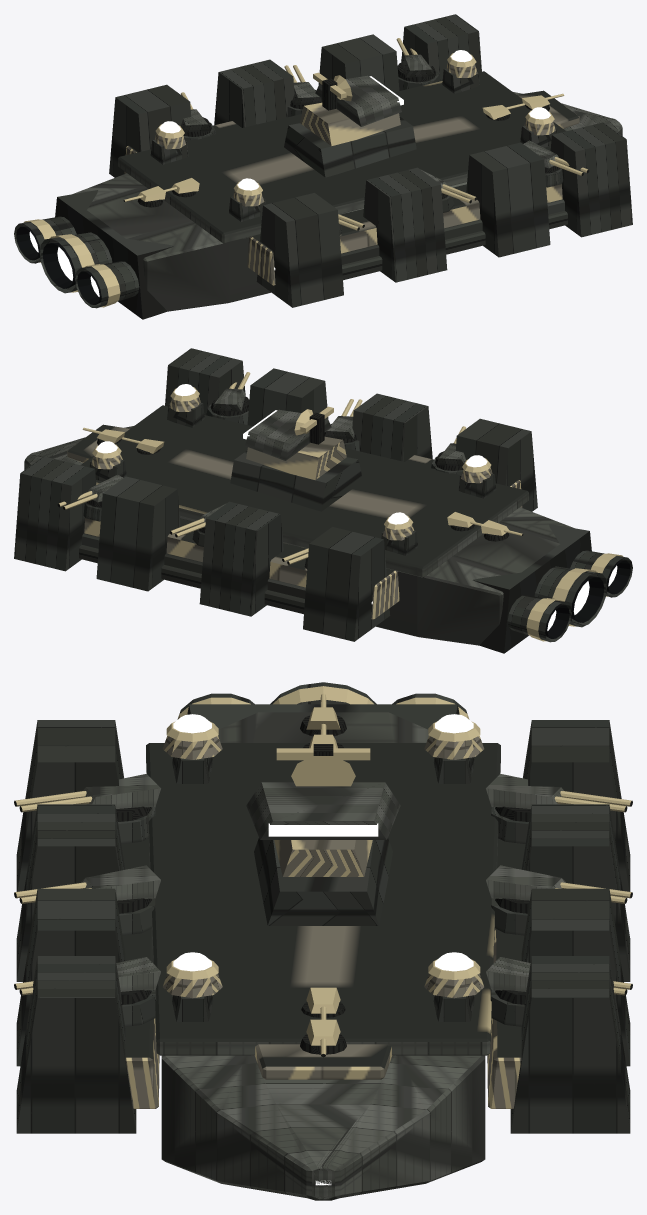
Rendered from cruiser.glb.
3 renders of one model, top to bottom at view 1: azimuth 30°, elevation 25°; view 2: azimuth 150°, elevation 25°; view 3: azimuth 270°, elevation 25°, orthographic. The views are drawn at different scales.
Parts seen in each view (by area): view 1: hull_body, engine_block, sensor_tower, weapon_turrets, shield_pylons; view 2: hull_body, engine_block, sensor_tower, weapon_turrets, shield_pylons; view 3: hull_body, weapon_turrets, sensor_tower, shield_pylons, engine_block.
Boxes of the visible parts, box(x1,y1,x2,y2) form: hull_body: box(72, 14, 632, 311); engine_block: box(14, 190, 174, 319); sensor_tower: box(284, 72, 416, 177); weapon_turrets: box(123, 38, 589, 235); shield_pylons: box(150, 50, 557, 221); hull_body: box(14, 348, 574, 645); engine_block: box(472, 524, 632, 653); sensor_tower: box(230, 406, 362, 511); weapon_turrets: box(57, 372, 523, 569); shield_pylons: box(89, 384, 496, 555); hull_body: box(16, 712, 630, 1200); weapon_turrets: box(14, 693, 632, 1057); sensor_tower: box(246, 744, 400, 925); shield_pylons: box(162, 714, 484, 1021); engine_block: box(177, 682, 469, 729).
Size of the model in its own units: 42 by 11.1 by 24.
1 material, 1 textured.
